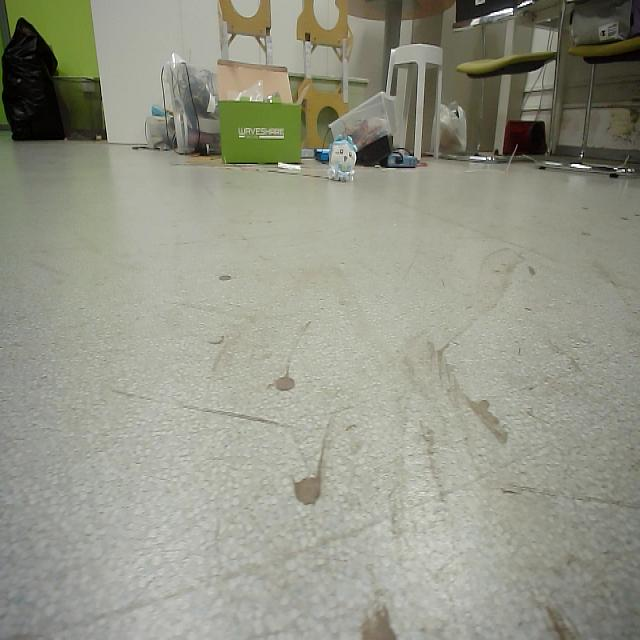xiaoba: (326, 130, 360, 184)
